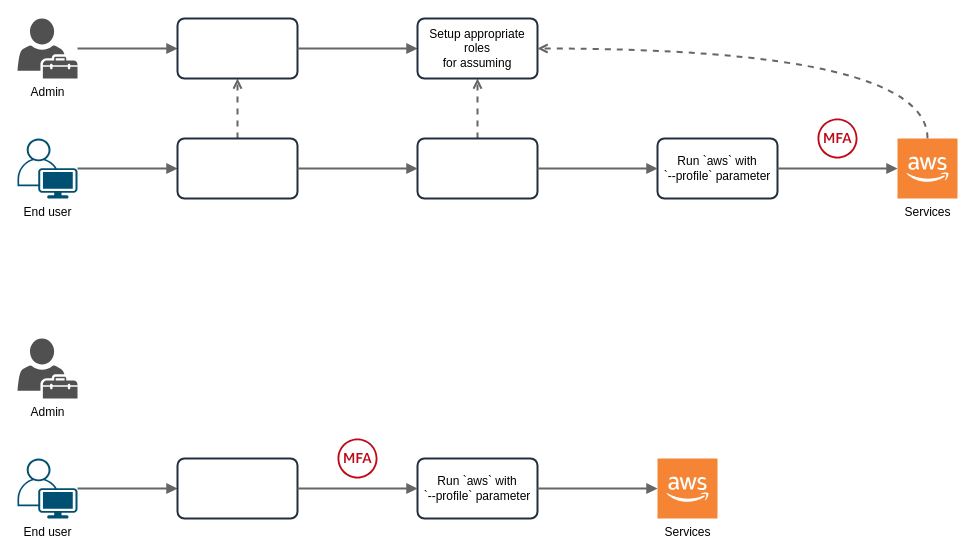
This 975x556 diagram has some shape labels left out. The box of each missing label's shape, as (x1, y1, x2, y2) in pixels:
Setup appropriate assume-role policies for IAM user: (176, 17, 298, 79)
Setup AWS CLI profile - IAM (once): (176, 137, 298, 199)
Setup AWS CLI profile - Role (once): (416, 137, 538, 199)
Setup AWS CLI profile - temp (each session): (176, 457, 298, 519)
